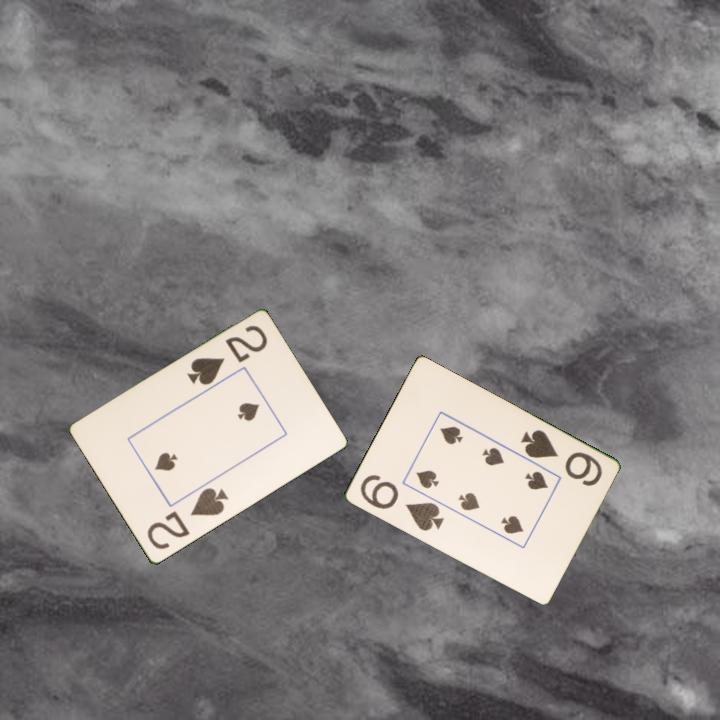2s: (143, 484, 231, 553), (183, 322, 270, 389)
6s: (356, 471, 447, 534), (516, 426, 605, 489)
